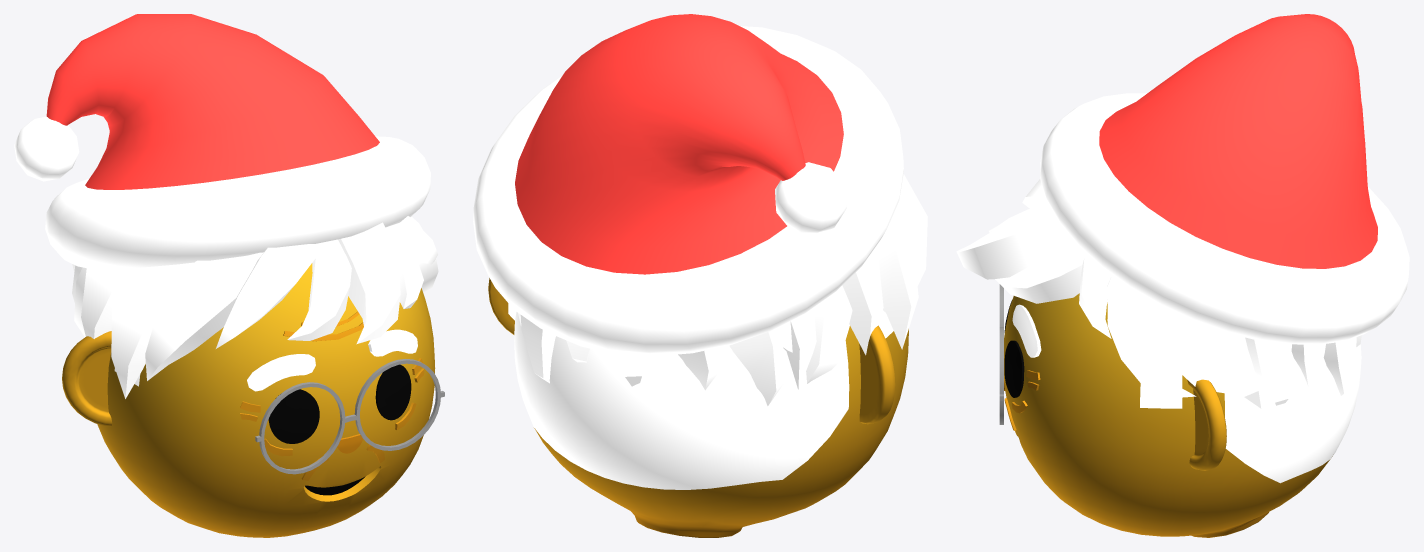
File: mx_claus.gltf
3 views of the same model, side by side, from view 1: azimuth 30°, elevation 25°; view 2: azimuth 150°, elevation 25°; view 3: azimuth 270°, elevation 25° (orthographic). The views are drawn at different scales.
Visible parts, largest first — view 1: Circle.953, Roundcube.195, Cube.2306, Circle.945, Cylinder.173, Circle.951, Circle.947, Circle.949; view 2: Circle.953, Roundcube.195, Cube.2306, Cylinder.173; view 3: Circle.953, Roundcube.195, Cube.2306, Cylinder.173, Circle.945, Circle.947, Circle.951.
Boxes of the visible parts, <box> form: Circle.953: <box>14,14,430,268</box>; Roundcube.195: <box>97,263,435,537</box>; Cube.2306: <box>72,216,438,398</box>; Circle.945: <box>268,364,411,443</box>; Cylinder.173: <box>62,331,112,426</box>; Circle.951: <box>255,359,444,474</box>; Circle.947: <box>247,329,417,391</box>; Circle.949: <box>240,358,424,480</box>; Circle.953: <box>473,14,903,356</box>; Roundcube.195: <box>514,310,908,537</box>; Cube.2306: <box>508,174,927,405</box>; Cylinder.173: <box>488,278,895,424</box>; Circle.953: <box>1040,14,1409,344</box>; Roundcube.195: <box>1004,293,1361,537</box>; Cube.2306: <box>956,179,1361,408</box>; Cylinder.173: <box>1187,379,1226,470</box>; Circle.945: <box>1004,300,1024,397</box>; Circle.947: <box>1012,304,1041,357</box>; Circle.951: <box>999,284,1003,424</box>.
Bounding box in the file's own units: 1.76 × 2.23 × 1.92.
Materials: 2 (2 with a texture image).
